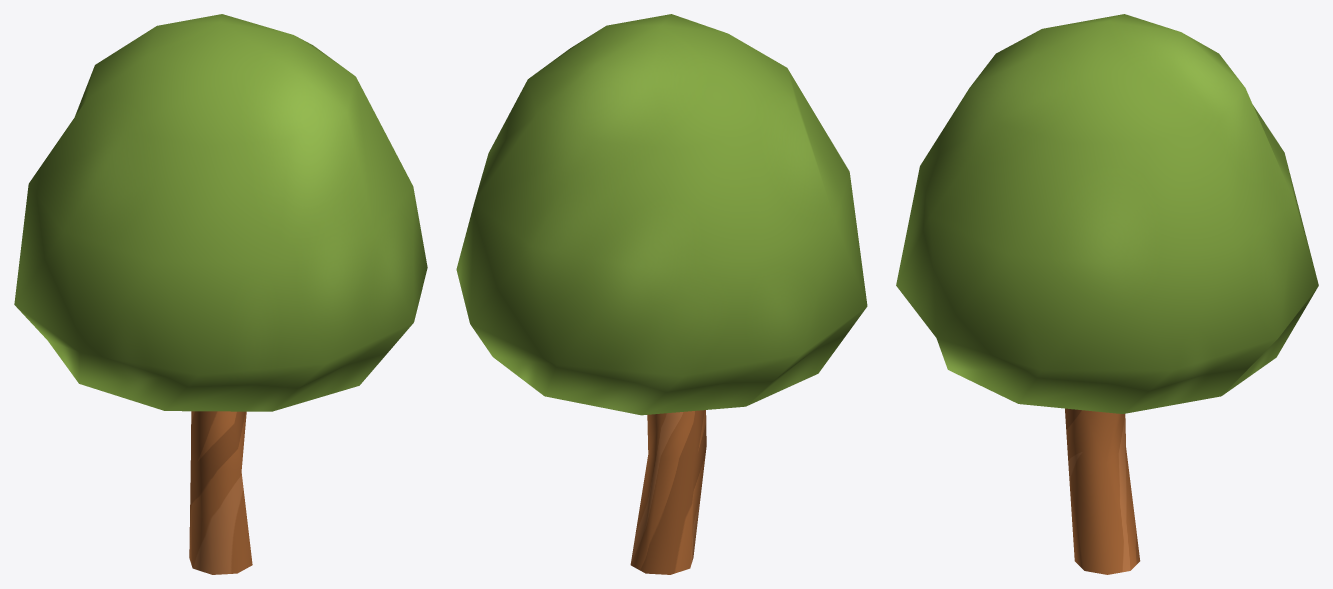
Rendered from Arvore_1.fbx.
3 views of the same model, side by side, from view 1: azimuth 30°, elevation 25°; view 2: azimuth 150°, elevation 25°; view 3: azimuth 270°, elevation 25° (orthographic).
Parts seen in each view (by area): view 1: Arvore_1; view 2: Arvore_1; view 3: Arvore_1.
Boxes of the visible parts, <box> form: Arvore_1: <box>14,14,427,574</box>; Arvore_1: <box>456,14,867,574</box>; Arvore_1: <box>896,14,1318,574</box>.
Size of the model in its own units: 137 by 203 by 144.
